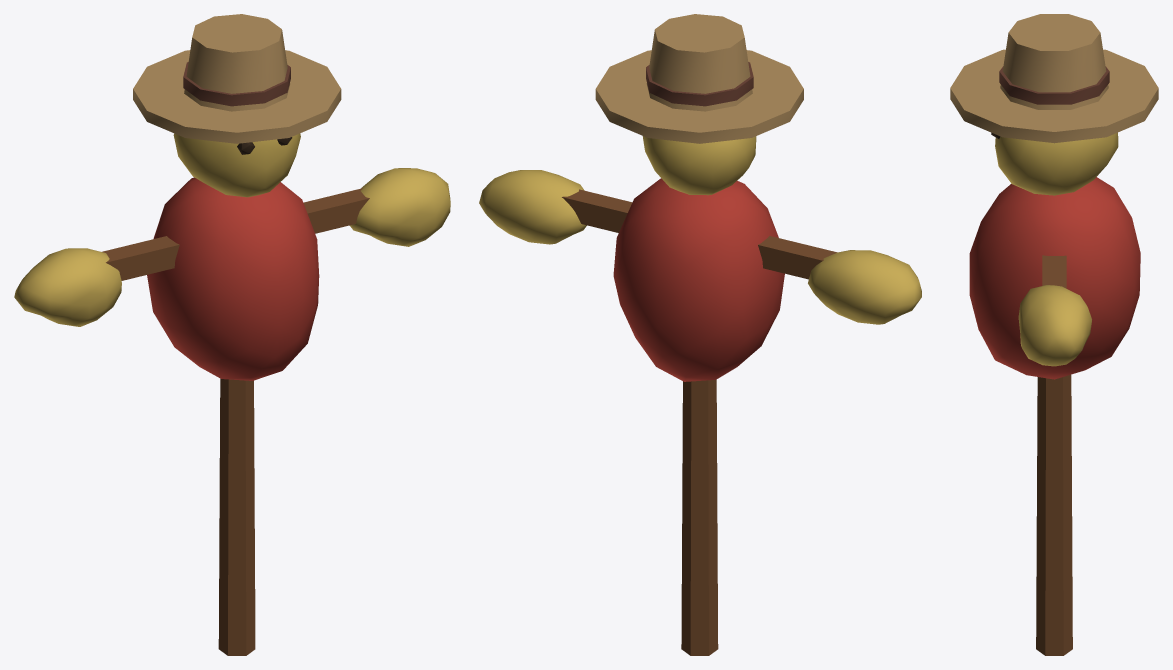
Rendered from scarecrow.glb.
3 views of the same model, side by side, from view 1: azimuth 30°, elevation 25°; view 2: azimuth 150°, elevation 25°; view 3: azimuth 270°, elevation 25° (orthographic).
Visible parts, largest first — view 1: decor-scarecrow; view 2: decor-scarecrow; view 3: decor-scarecrow.
Part boxes in pixels (<box>): decor-scarecrow: <box>14,14,450,655</box>; decor-scarecrow: <box>479,14,921,655</box>; decor-scarecrow: <box>950,14,1158,655</box>.
Size of the model in its own units: 1.62 by 2.22 by 0.68.
